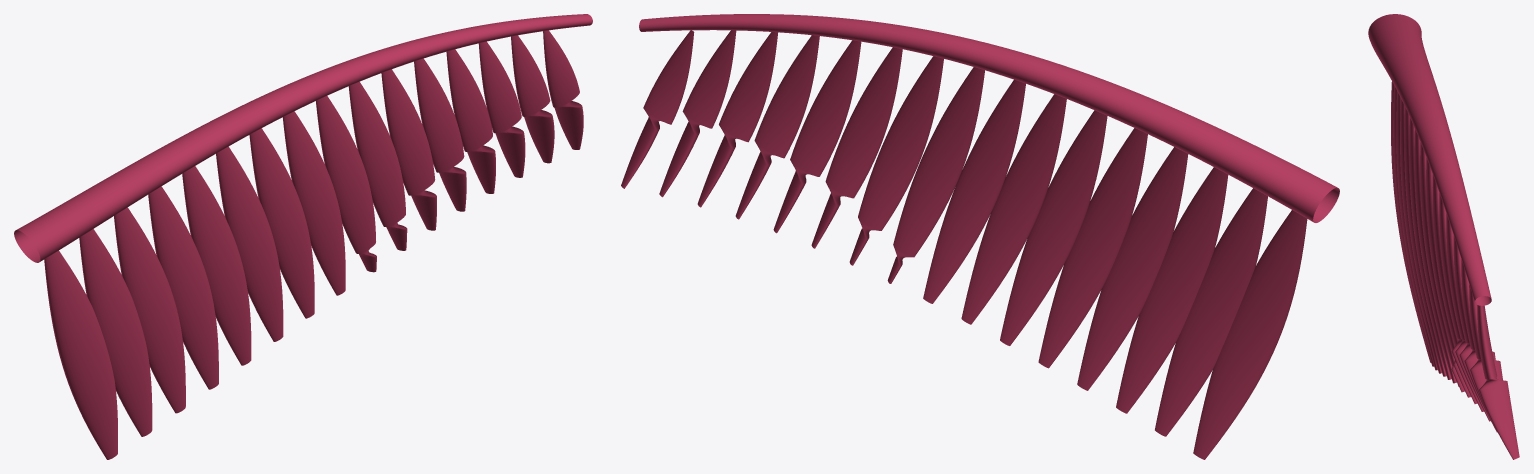
The model's file is castle_angel_wing_33m.glb.
3 renders of one model, left to right at view 1: azimuth 30°, elevation 25°; view 2: azimuth 150°, elevation 25°; view 3: azimuth 270°, elevation 25°, orthographic. The views are drawn at different scales.
Visible parts, largest first — view 1: AngelWing33m; view 2: AngelWing33m; view 3: AngelWing33m.
Part boxes in pixels (bbox=[...]): AngelWing33m: bbox=[14, 14, 592, 459]; AngelWing33m: bbox=[621, 14, 1339, 459]; AngelWing33m: bbox=[1368, 14, 1519, 459].
Bounding box in the file's own units: 33.57 × 17.77 × 6.51.
